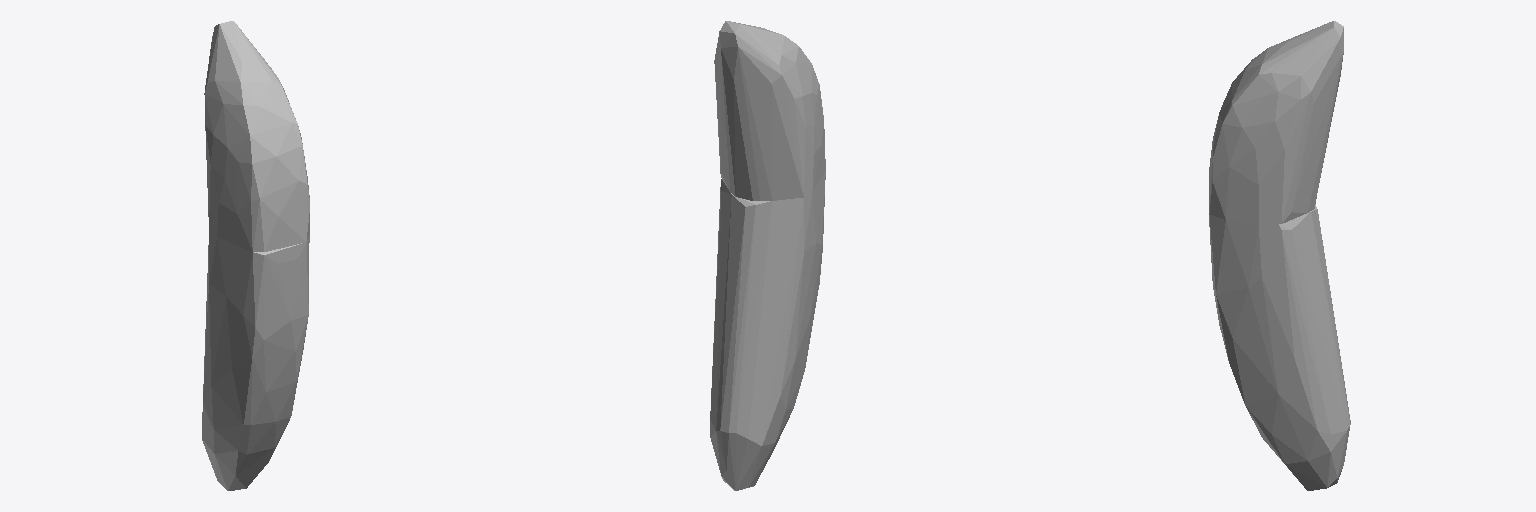
The robot description file, URDF, robot "root":
<robot name="root">
  <link name="link_473758ca6cb0506ee7697d561711bd2b_convex_piece_0">
    <inertial>
      <origin rpy="0 0 0" xyz="0 0 0"/>
      <mass value="5.92E-05"/>
      <inertia ixx="7.63E-08" ixy="1.24E-10" ixz="-7.35E-10" iyy="7.33E-08" iyz="-6.05E-09" izz="9.02E-09"/>
    </inertial>
    <visual>
      <origin rpy="0 0 0" xyz="0 0 0"/>
      <geometry>
        <mesh filename="473758ca6cb0506ee7697d561711bd2b_convex_piece_0.obj" scale="1.0000E+00"/>
      </geometry>
      <material name="">
        <color rgba="7.50E-01 7.50E-01 7.50E-01 1"/>
      </material>
    </visual>
    <collision>
      <origin rpy="0 0 0" xyz="0 0 0"/>
      <geometry>
        <mesh filename="473758ca6cb0506ee7697d561711bd2b_convex_piece_0.obj" scale="1.0000E+00"/>
      </geometry>
    </collision>
  </link>
  <link name="link_473758ca6cb0506ee7697d561711bd2b_convex_piece_1">
    <inertial>
      <origin rpy="0 0 0" xyz="0 0 0"/>
      <mass value="3.73E-05"/>
      <inertia ixx="8.83E-08" ixy="5.26E-11" ixz="3.01E-10" iyy="8.65E-08" iyz="-5.59E-10" izz="5.74E-09"/>
    </inertial>
    <visual>
      <origin rpy="0 0 0" xyz="0 0 0"/>
      <geometry>
        <mesh filename="473758ca6cb0506ee7697d561711bd2b_convex_piece_1.obj" scale="1.0000E+00"/>
      </geometry>
      <material name="">
        <color rgba="7.50E-01 7.50E-01 7.50E-01 1"/>
      </material>
    </visual>
    <collision>
      <origin rpy="0 0 0" xyz="0 0 0"/>
      <geometry>
        <mesh filename="473758ca6cb0506ee7697d561711bd2b_convex_piece_1.obj" scale="1.0000E+00"/>
      </geometry>
    </collision>
  </link>
  <joint name="link_473758ca6cb0506ee7697d561711bd2b_convex_piece_1_joint" type="fixed">
    <origin rpy="0 0 0" xyz="0 0 0"/>
    <parent link="link_473758ca6cb0506ee7697d561711bd2b_convex_piece_0"/>
    <child link="link_473758ca6cb0506ee7697d561711bd2b_convex_piece_1"/>
  </joint>
</robot>

--- Facts derived from the render (not from the file) ---
Views: 3 orthographic renders of the robot side by side, from view 1: azimuth 30°, elevation 25°; view 2: azimuth 150°, elevation 25°; view 3: azimuth 270°, elevation 25°.
Robot: root — 2 links, 1 joints (1 fixed); root link link_473758ca6cb0506ee7697d561711bd2b_convex_piece_0; default pose: every joint at zero.
Visible links, largest first — view 1: link_473758ca6cb0506ee7697d561711bd2b_convex_piece_0, link_473758ca6cb0506ee7697d561711bd2b_convex_piece_1; view 2: link_473758ca6cb0506ee7697d561711bd2b_convex_piece_0, link_473758ca6cb0506ee7697d561711bd2b_convex_piece_1; view 3: link_473758ca6cb0506ee7697d561711bd2b_convex_piece_0, link_473758ca6cb0506ee7697d561711bd2b_convex_piece_1.
Link boxes in pixels (x1,y1,x2,y2): link_473758ca6cb0506ee7697d561711bd2b_convex_piece_0: (202, 232, 309, 490); link_473758ca6cb0506ee7697d561711bd2b_convex_piece_1: (204, 21, 309, 251); link_473758ca6cb0506ee7697d561711bd2b_convex_piece_0: (710, 171, 825, 490); link_473758ca6cb0506ee7697d561711bd2b_convex_piece_1: (714, 21, 825, 200); link_473758ca6cb0506ee7697d561711bd2b_convex_piece_0: (1209, 204, 1350, 490); link_473758ca6cb0506ee7697d561711bd2b_convex_piece_1: (1209, 21, 1343, 223).
Bounding box of the posed robot: 0.0313 × 0.0464 × 0.1682 m (x, y, z).
Meshes: 2 distinct files referenced, 2 mesh visuals loaded (2 OBJ).